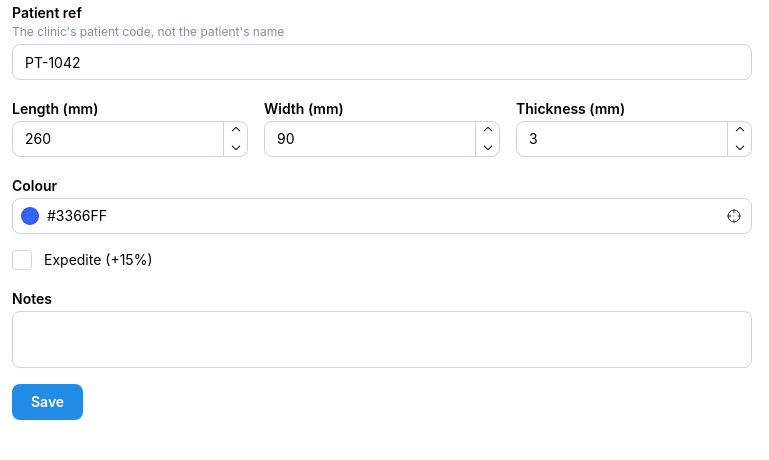
Scenario: OrderForm › shows a validation error
The width and height of the screenshot is (769, 460).
Step 1. Replace the text in the field labelled "Width (mm)" with "200" → (382, 139), box [264,121,500,157]
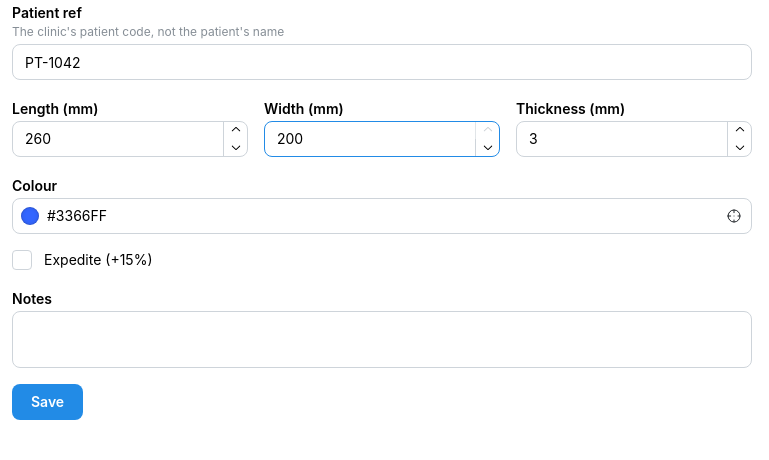
Step 2. Click the button "Save" → (48, 402), box [12,384,83,420]
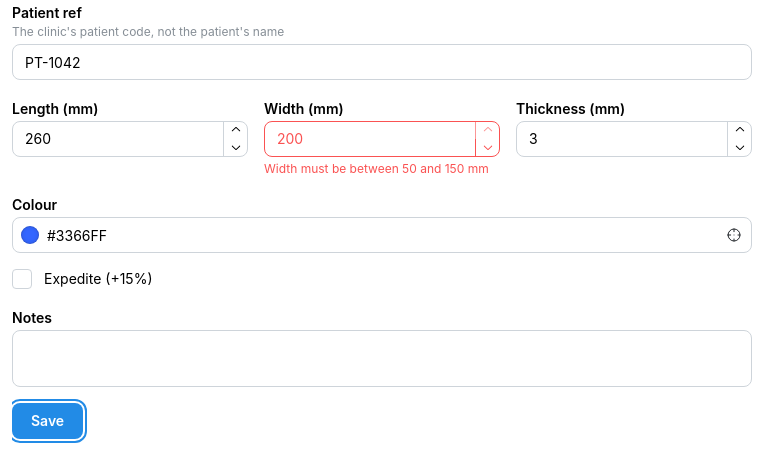
Expected: the text "Width must be between 50 and 150 mm" is shown, [264,162,500,176]
